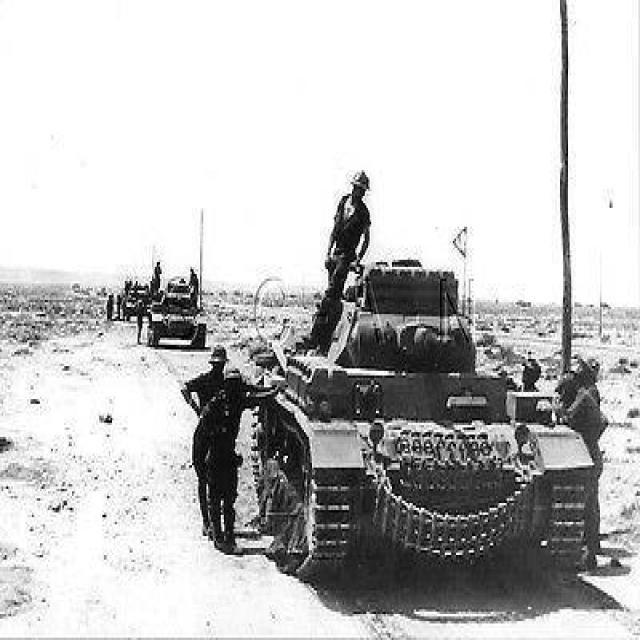Tanks: (246, 250, 599, 586), (148, 272, 207, 354)
